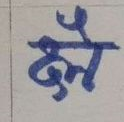ai_matra: (56, 12, 96, 41)
